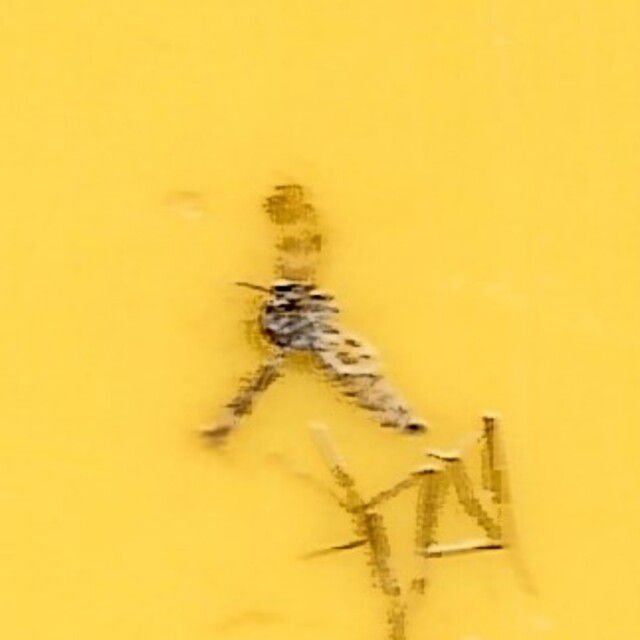Nematocera: (198, 179, 442, 461)
